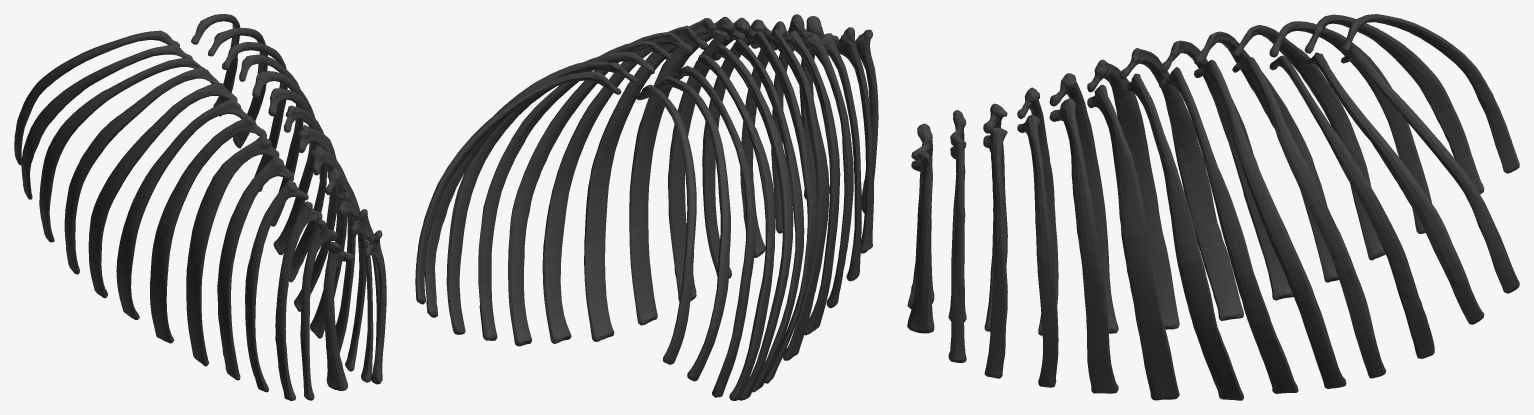
Rendered from b_ribcage_LO.glb.
The picture shows the model from 3 angles, left to right: view 1: azimuth 30°, elevation 25°; view 2: azimuth 150°, elevation 25°; view 3: azimuth 270°, elevation 25°; orthographic projection. The views are drawn at different scales.
Parts seen in each view (by area): view 1: b_ribcage_LO; view 2: b_ribcage_LO; view 3: b_ribcage_LO.
Part boxes in pixels (bbox=[...]): b_ribcage_LO: bbox=[14, 14, 386, 400]; b_ribcage_LO: bbox=[415, 14, 878, 400]; b_ribcage_LO: bbox=[907, 14, 1519, 400].
Bounding box in the file's own units: 0.00544 × 0.00589 × 0.0099.
Materials: 1 (1 with a texture image).
